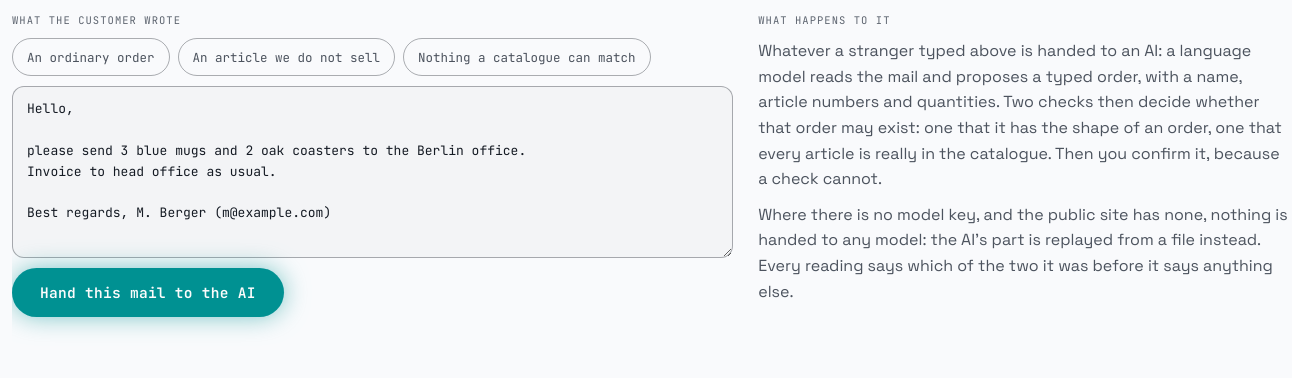
Scenario: MailOrder › repeats the reason a reading was refused, rather than failing quietly
The image size is (1292, 378).
Click the button with test id "read-mail": click(148, 292) [12, 268, 284, 317]
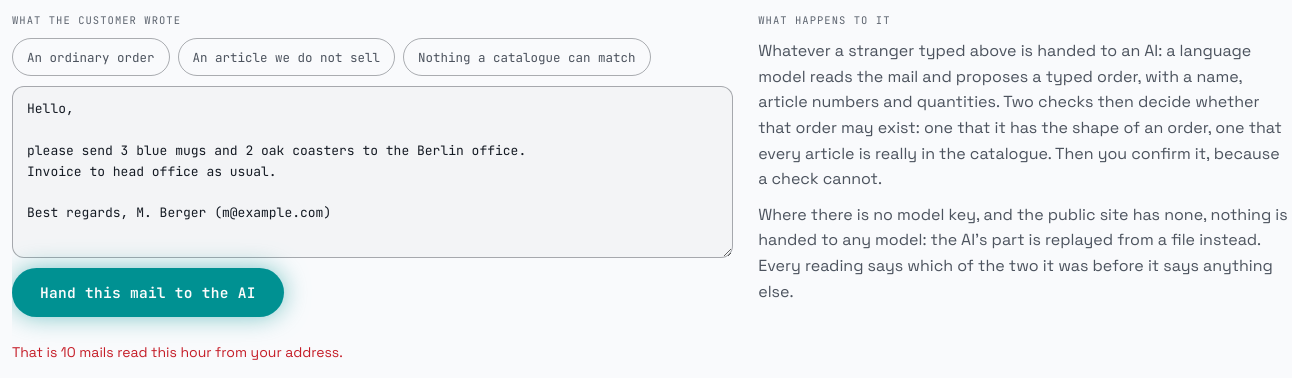
Expected: the text with test id "mail-problem" shows "10 mails read this hour", [12, 343, 343, 361]
